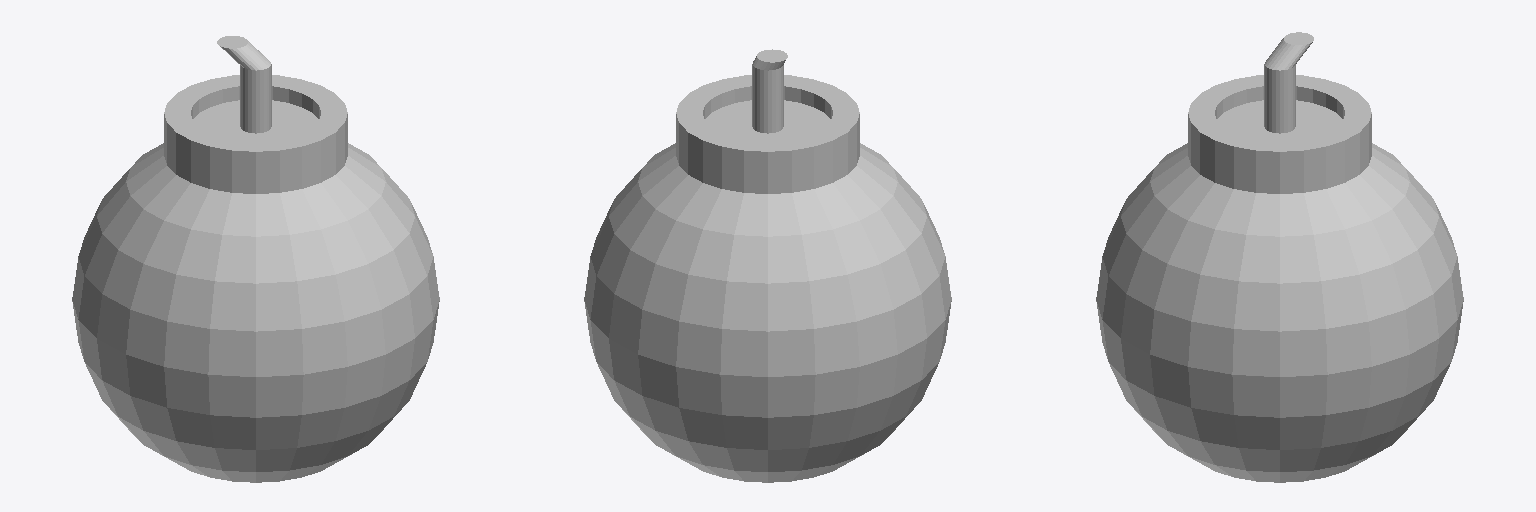
The model's file is Bomb.obj.
3 views of the same model, side by side, from view 1: azimuth 30°, elevation 25°; view 2: azimuth 150°, elevation 25°; view 3: azimuth 270°, elevation 25° (orthographic).
Visible parts, largest first — view 1: Sphere; view 2: Sphere; view 3: Sphere.
Part boxes in pixels (left/top/right/bottom): Sphere: left=72, top=36, right=439, bottom=482; Sphere: left=584, top=49, right=951, bottom=482; Sphere: left=1096, top=32, right=1463, bottom=482.
Size of the model in its own units: 2 by 2.52 by 2.